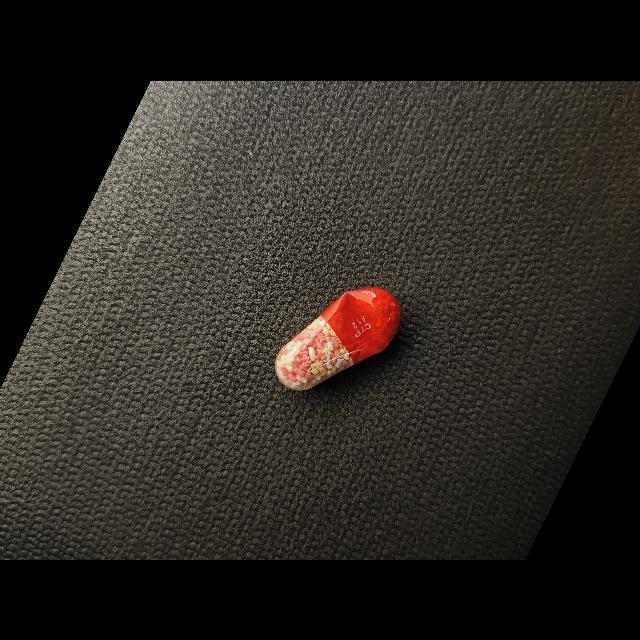Defective Capsule: (275, 286, 402, 390)
